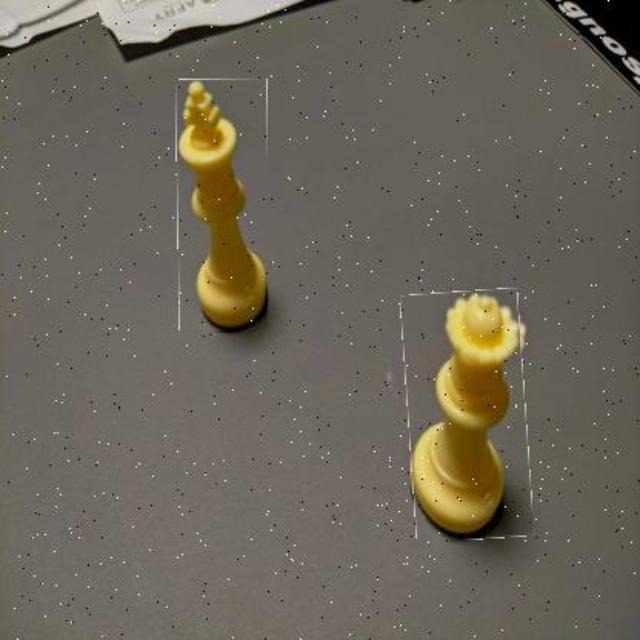white-king: (176, 80, 268, 332)
white-queen: (405, 290, 531, 540)
